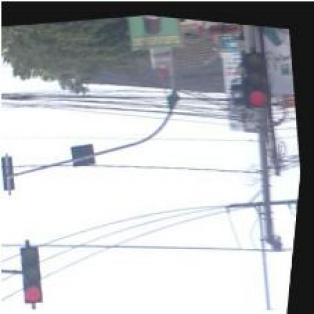Semaforo Rojo: (17, 239, 55, 307), (239, 42, 277, 106)
